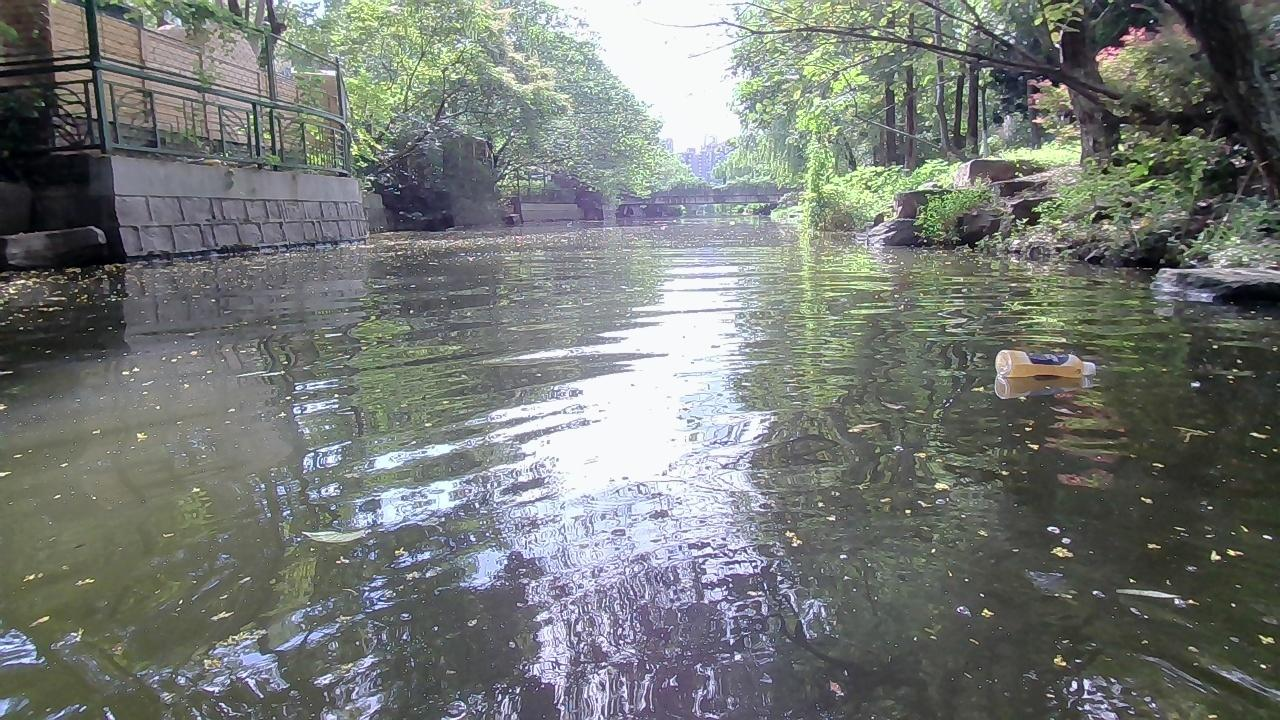bottle: (989, 349, 1097, 378)
